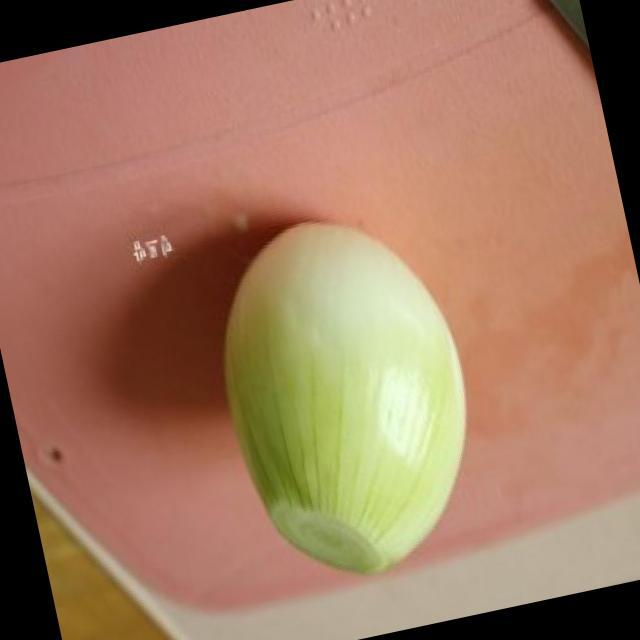Onion: (224, 225, 465, 578)
